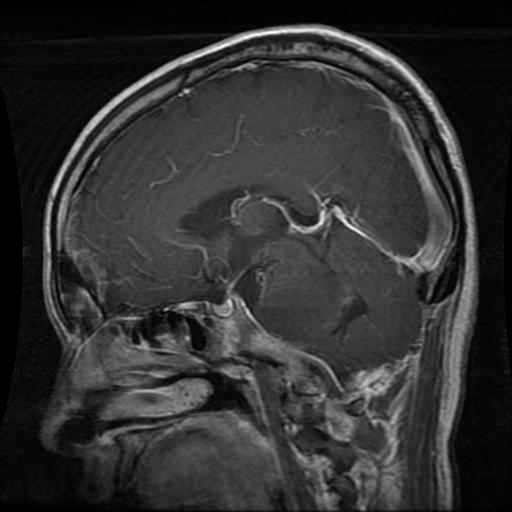Gliomia_tumour: (251, 270, 346, 339)
